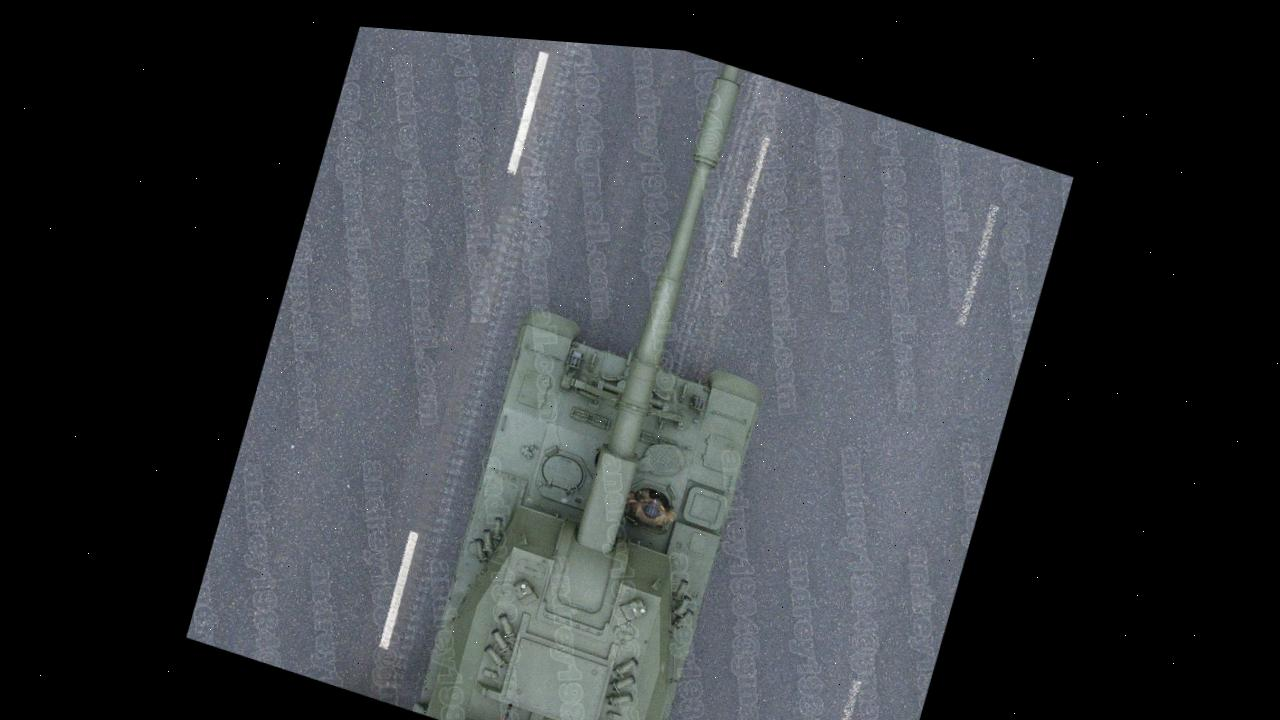tank: (394, 31, 862, 720)
